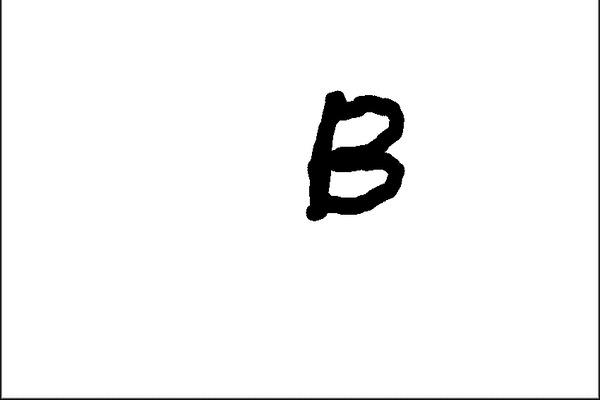B: (299, 79, 412, 228)
